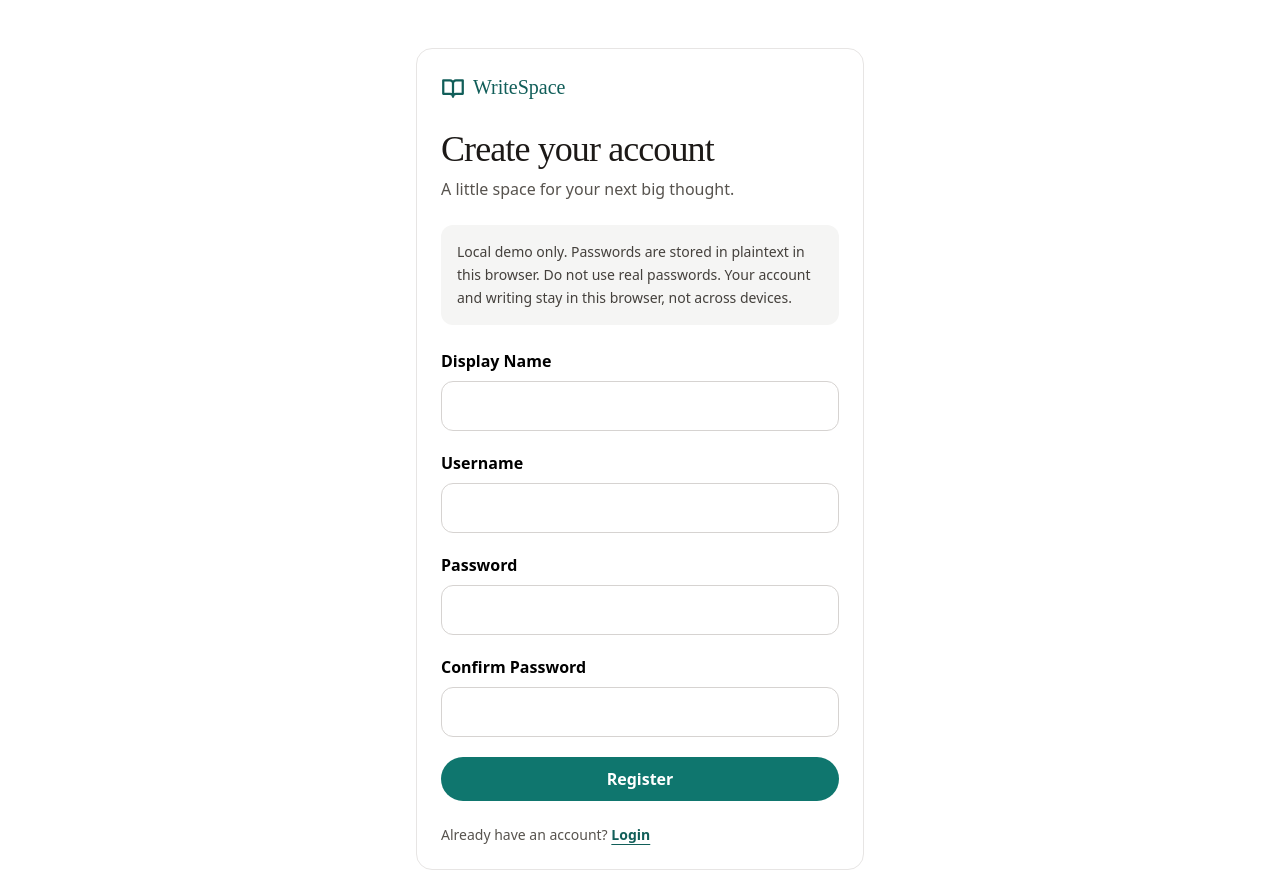
Test: identity forms and destinations › submits missing registration fields then creates a persisted ordinary writer at All Blogs
This screenshot has width=1280, height=886.
Expected: the text "Do not use real passwords" is shown, [457,242,810,306]
Click the button "Register". click: (640, 779)
box: [441,757,839,801]
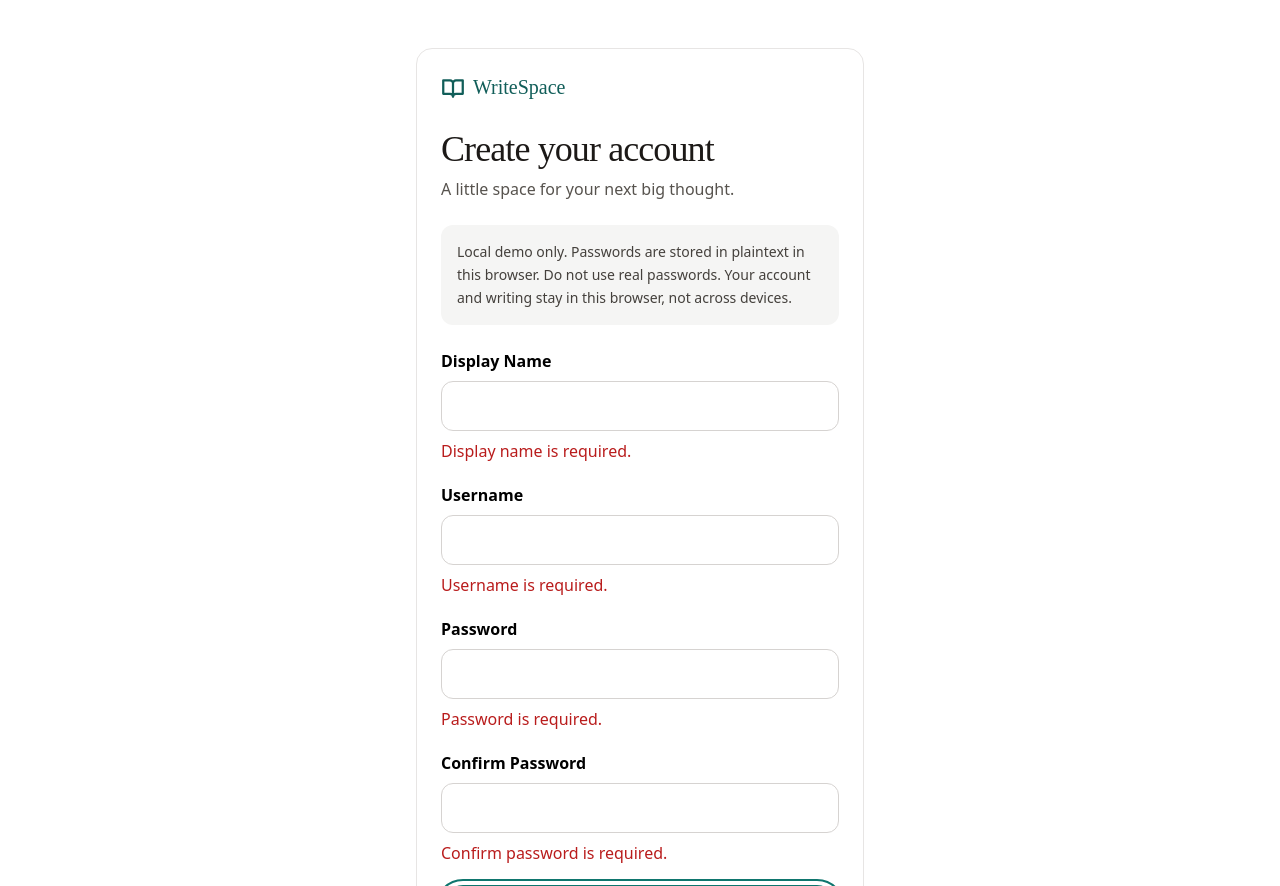
Expected: the field labelled "Username" is marked as invalid, [441,515,839,565]
Expected: the password field labelled "Password" is marked as invalid, [441,649,839,699]
Expected: the password field labelled "Confirm Password" is marked as invalid, [441,783,839,833]
Type "Mira" into the field labelled "Display Name". click: (640, 406)
box: [441,381,839,431]
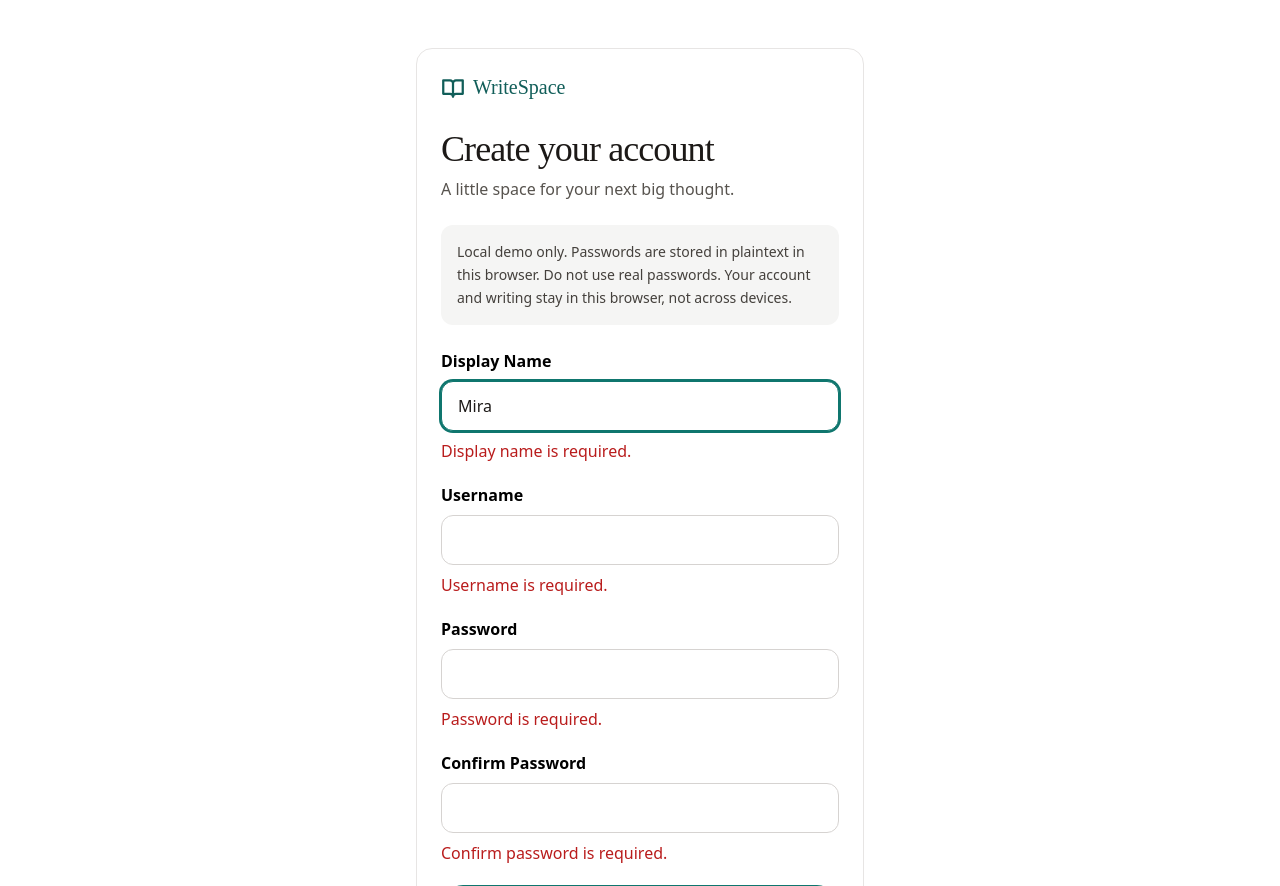
Type "mira" into the field labelled "Username". click: (640, 540)
box: [441,515,839,565]
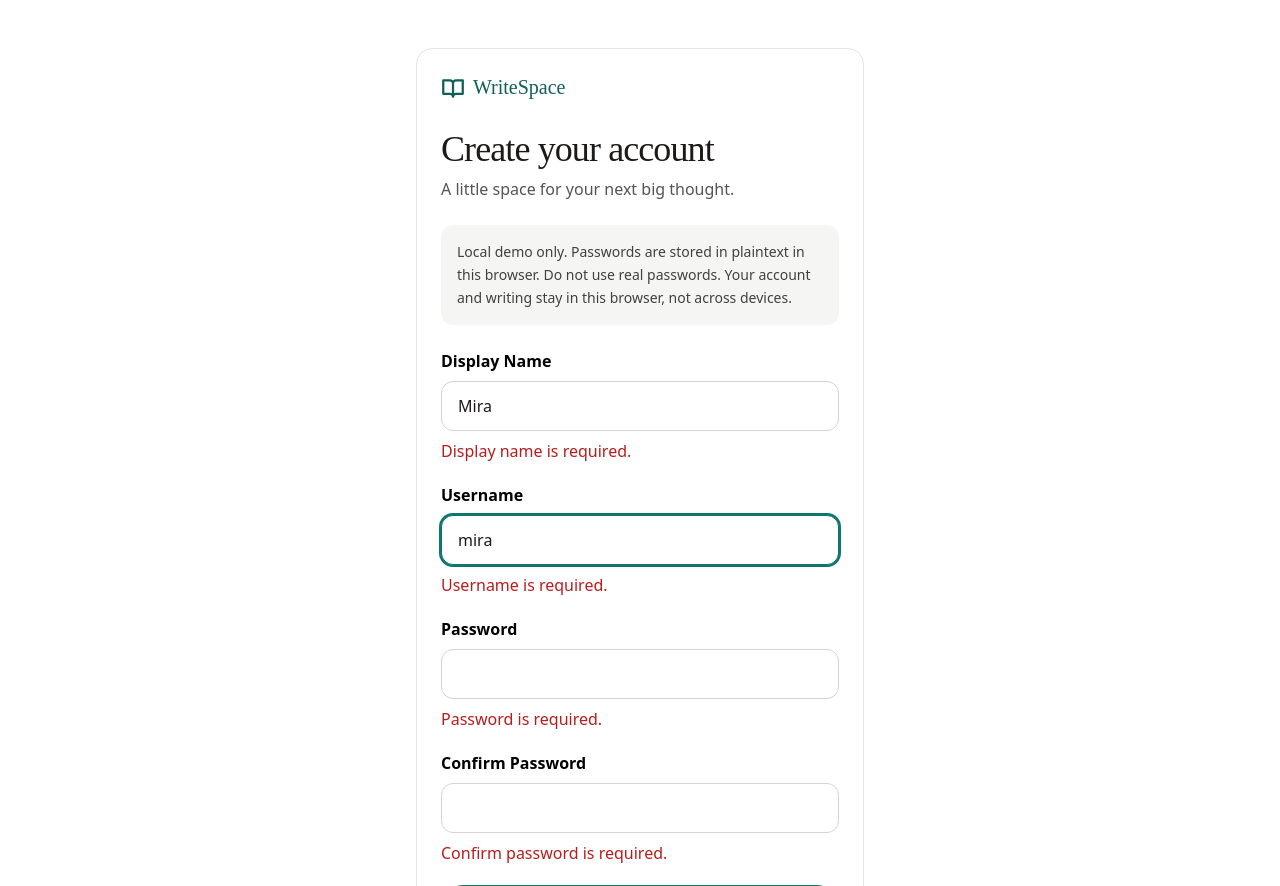
Type "demo-only" into the password field labelled "Password". click: (640, 674)
box: [441,649,839,699]
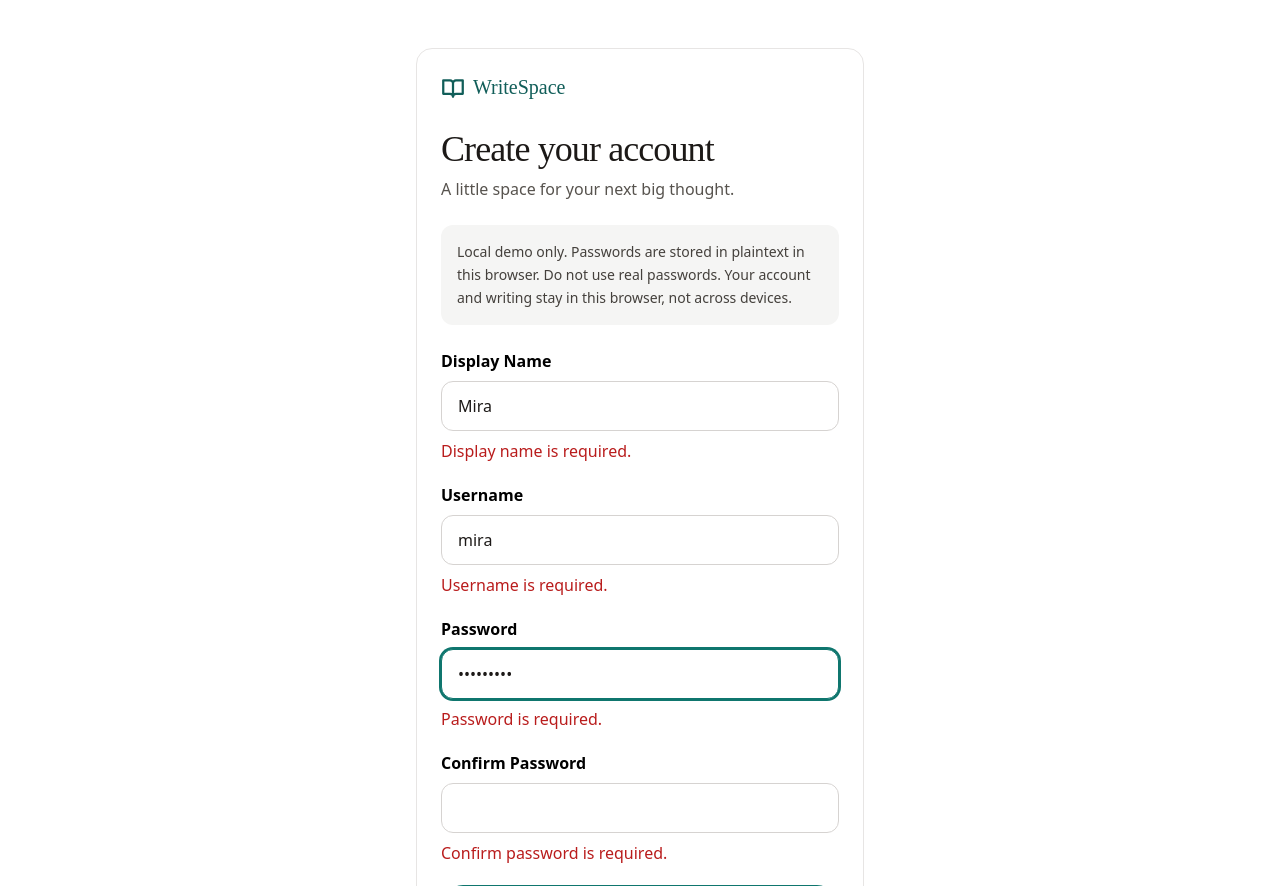
Type "demo-only" into the password field labelled "Confirm Password". click: (640, 808)
box: [441,783,839,833]
(page scrolled)
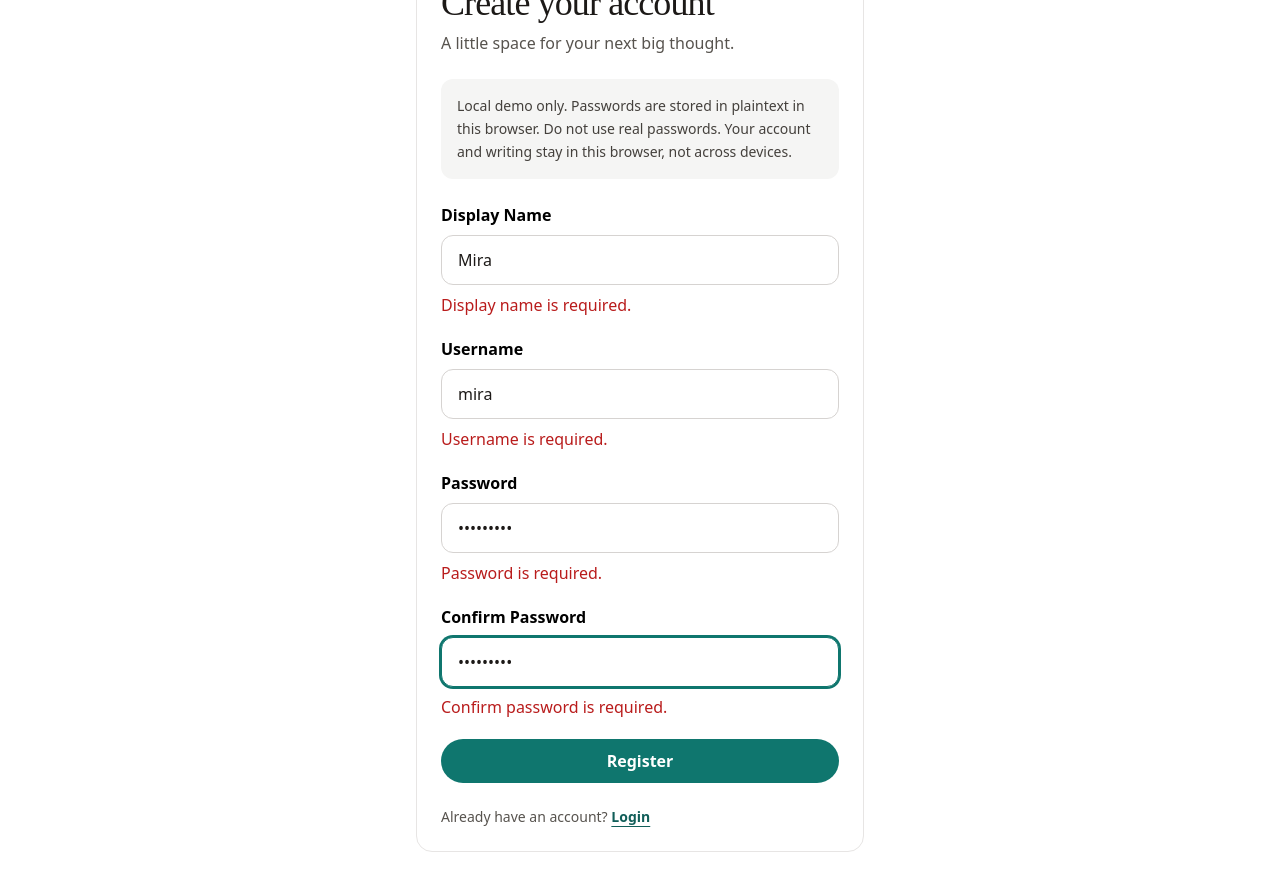
Click the button "Register". click: (640, 761)
box: [441,739,839,783]
(page scrolled)
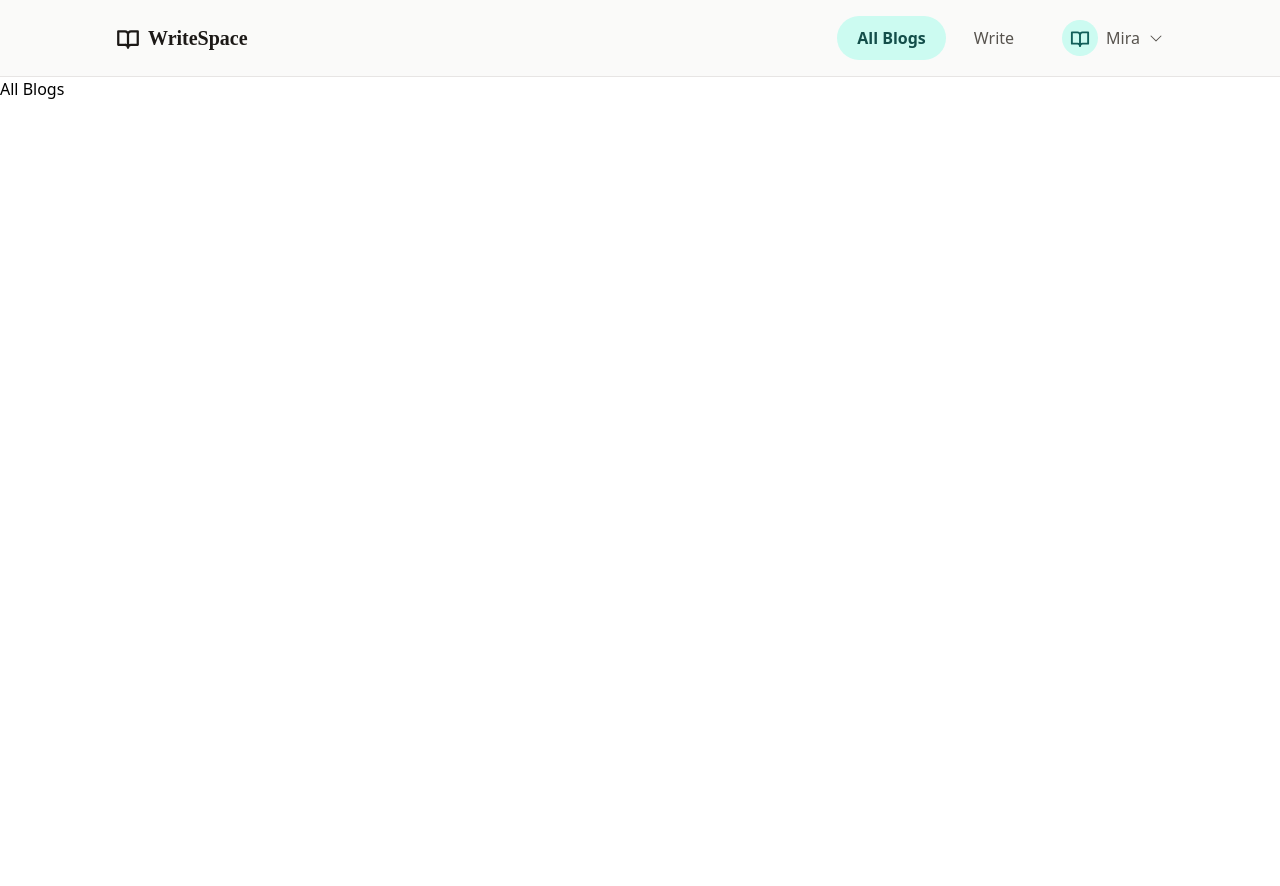
Expected: the heading "All Blogs" is shown, [0,78,64,100]
Expected: the button with aria-label "Account: Mira" is shown, [1042,12,1184,64]
